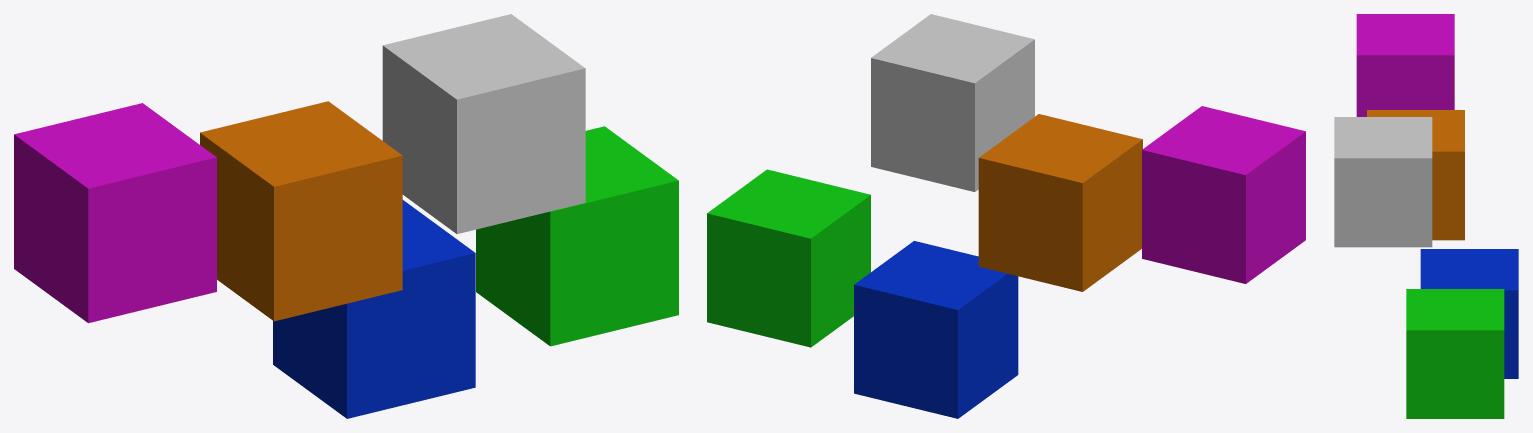
File: texture plateforme.fbx
The picture shows the model from 3 angles, left to right: view 1: azimuth 30°, elevation 25°; view 2: azimuth 150°, elevation 25°; view 3: azimuth 270°, elevation 25°; orthographic projection. The views are drawn at different scales.
Visible parts, largest first — view 1: Cube_1, Cube, Cube_2, Cube_4, Cube_3; view 2: Cube_2, Cube_1, Cube_3, Cube_4, Cube; view 3: Cube, Cube_4, Cube_1, Cube_3, Cube_2.
Boxes of the visible parts, <box> form: Cube_1: <box>14,103,216,323</box>; Cube: <box>382,14,585,233</box>; Cube_2: <box>200,101,402,321</box>; Cube_4: <box>476,126,678,346</box>; Cube_3: <box>273,200,475,418</box>; Cube_2: <box>978,114,1142,291</box>; Cube_1: <box>1142,106,1305,283</box>; Cube_3: <box>854,241,1018,418</box>; Cube_4: <box>707,169,870,347</box>; Cube: <box>871,14,1034,191</box>; Cube: <box>1334,117,1432,247</box>; Cube_4: <box>1406,289,1504,418</box>; Cube_1: <box>1356,14,1454,116</box>; Cube_3: <box>1420,249,1518,378</box>; Cube_2: <box>1367,110,1464,240</box>.
Bounding box in the file's own units: 977 × 529 × 376.
